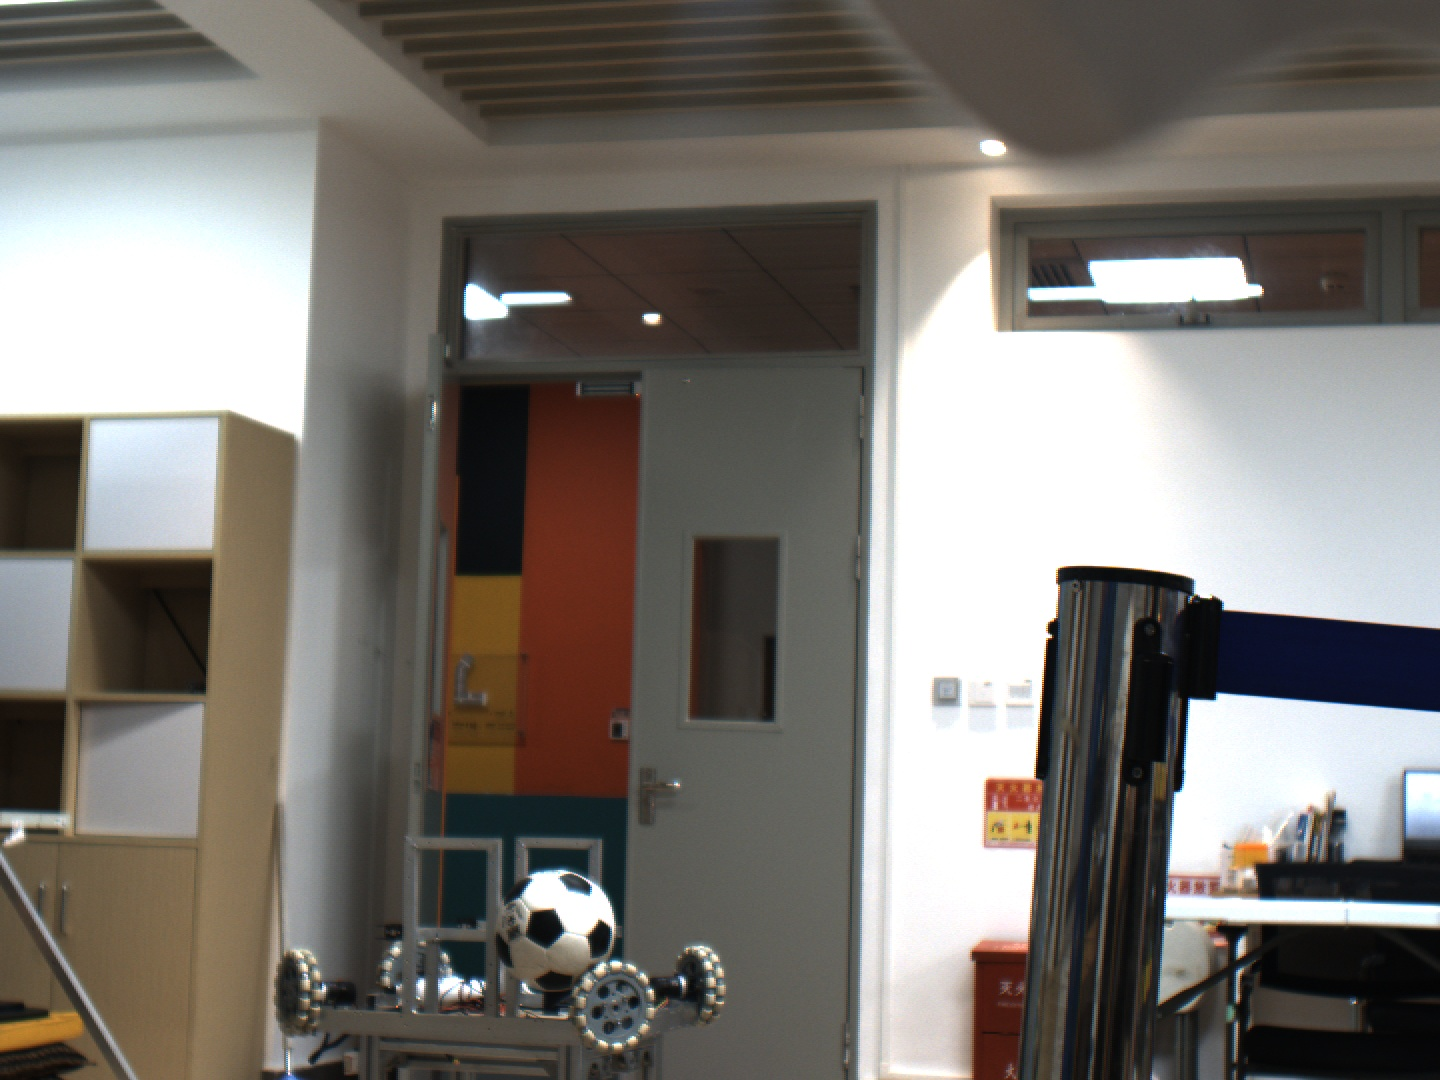ball: (488, 864, 629, 998)
